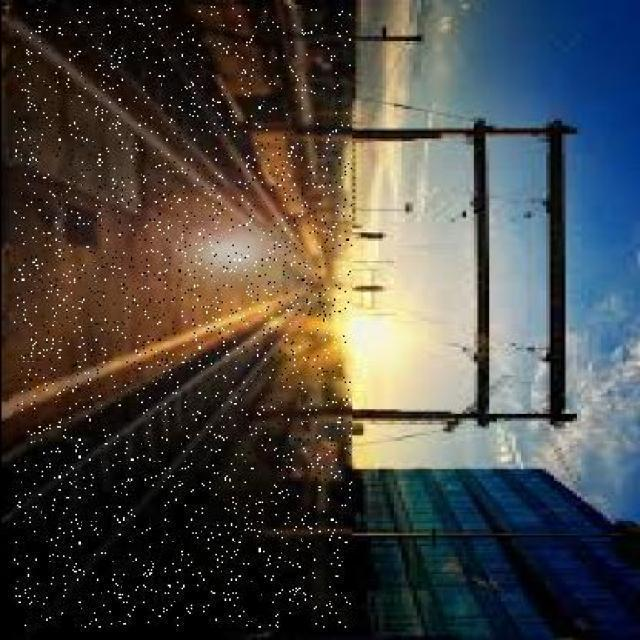rail: (13, 7, 350, 629)
